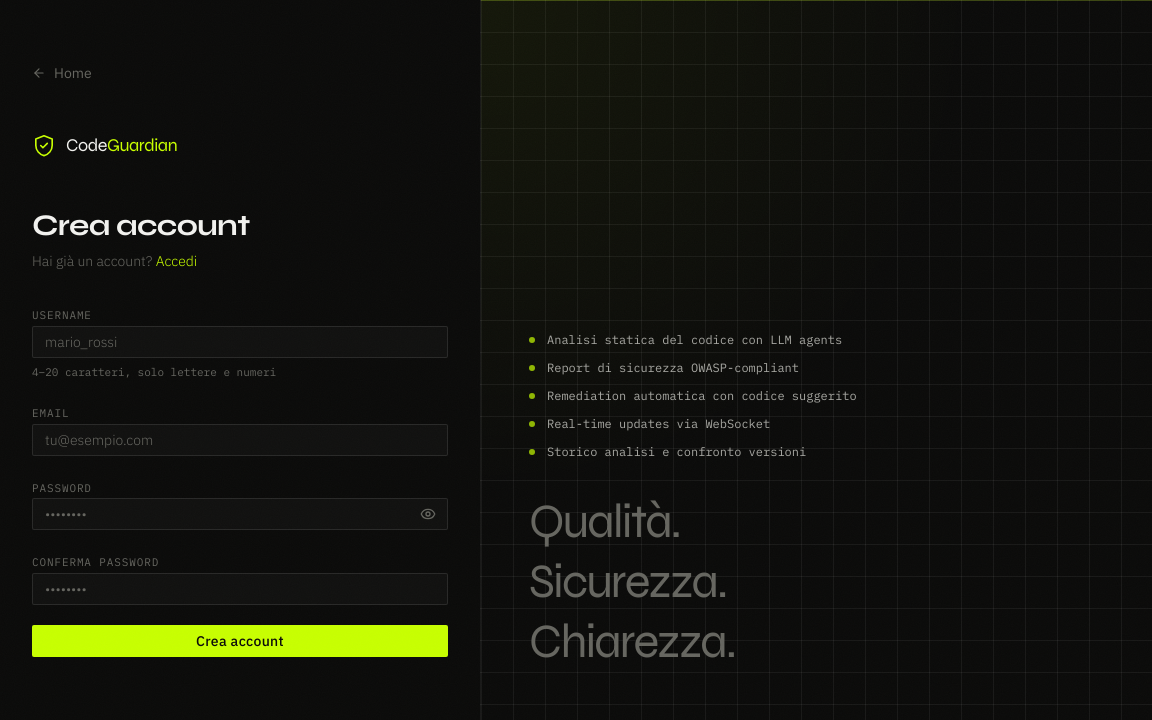
Test case: RegisterPage › shows email validation error when email field is empty on submit
Note: Leave email empty, fill other fields to isolate the email error
In the field with placeholder "mario_rossi": point(240, 342) [32, 326, 448, 358], type "mario99"
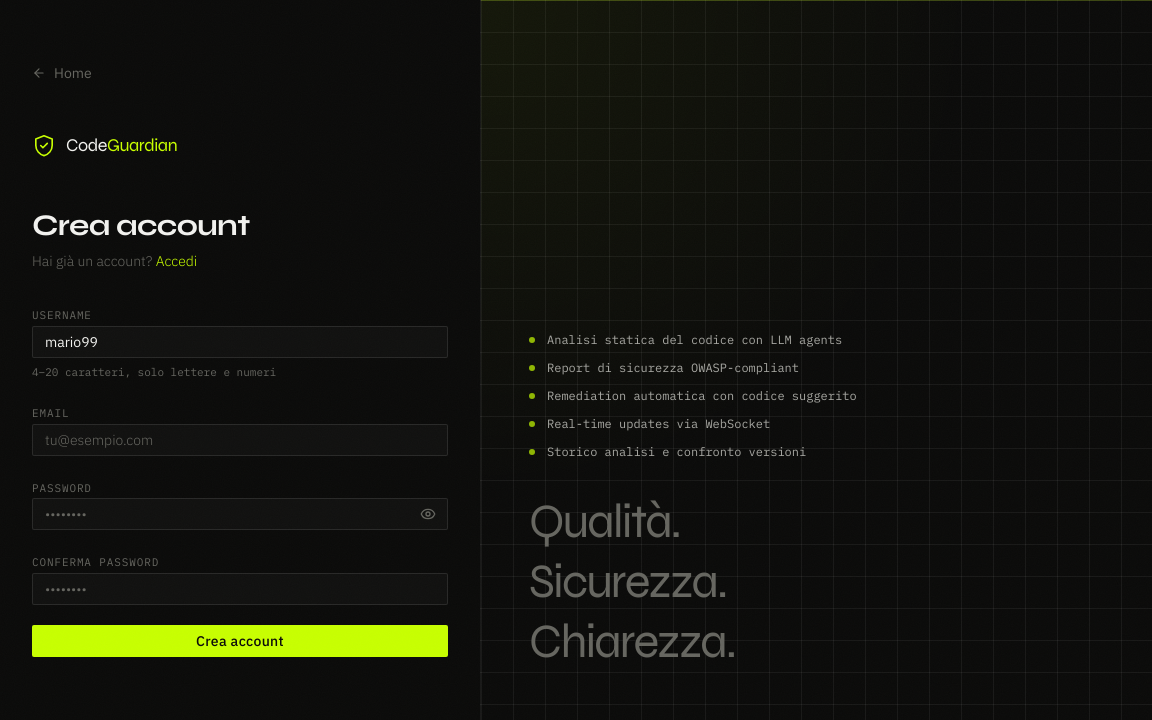
Note: click submit without filling email
Click the button "Crea account": point(240, 641) [32, 625, 448, 657]
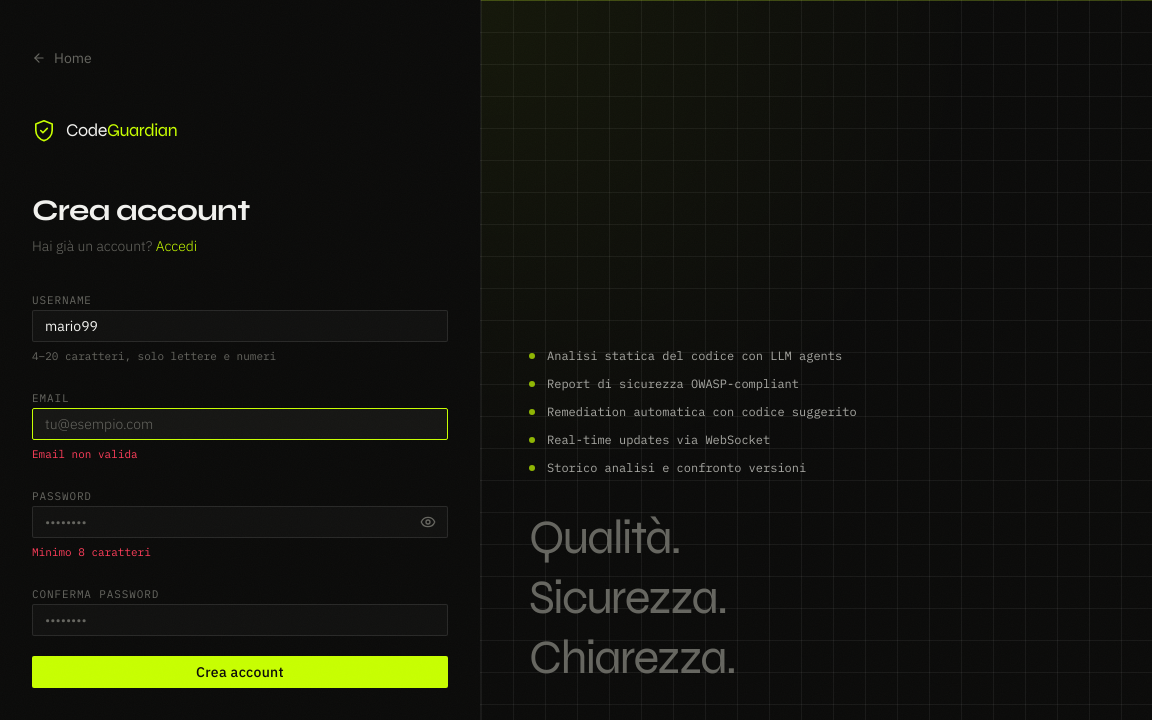
Check: the text "Email non valida" is shown, box [32, 447, 138, 461]
